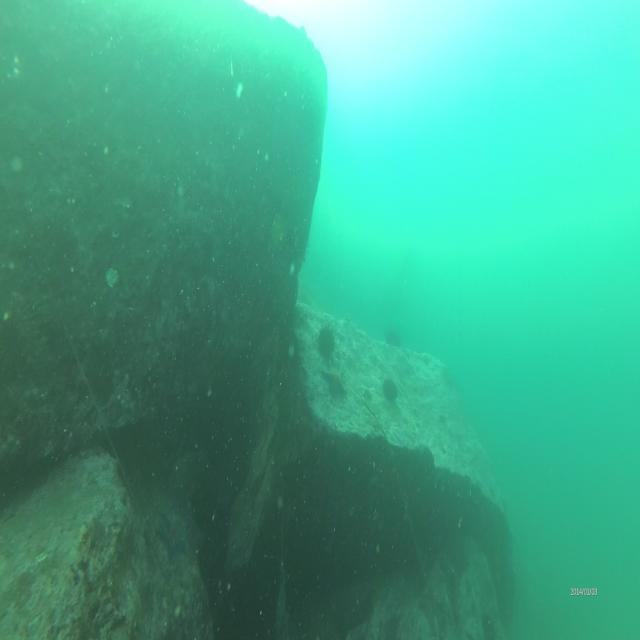echinus: (314, 315, 342, 365), (381, 369, 402, 407)
